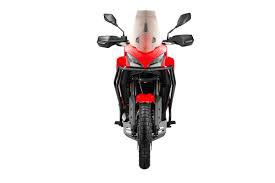Motorcycle: (90, 7, 205, 172)
